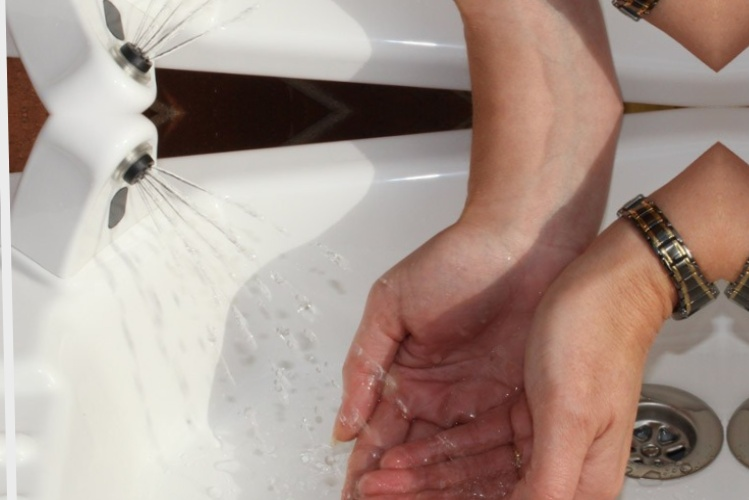washing hand: (48, 118, 687, 499)
